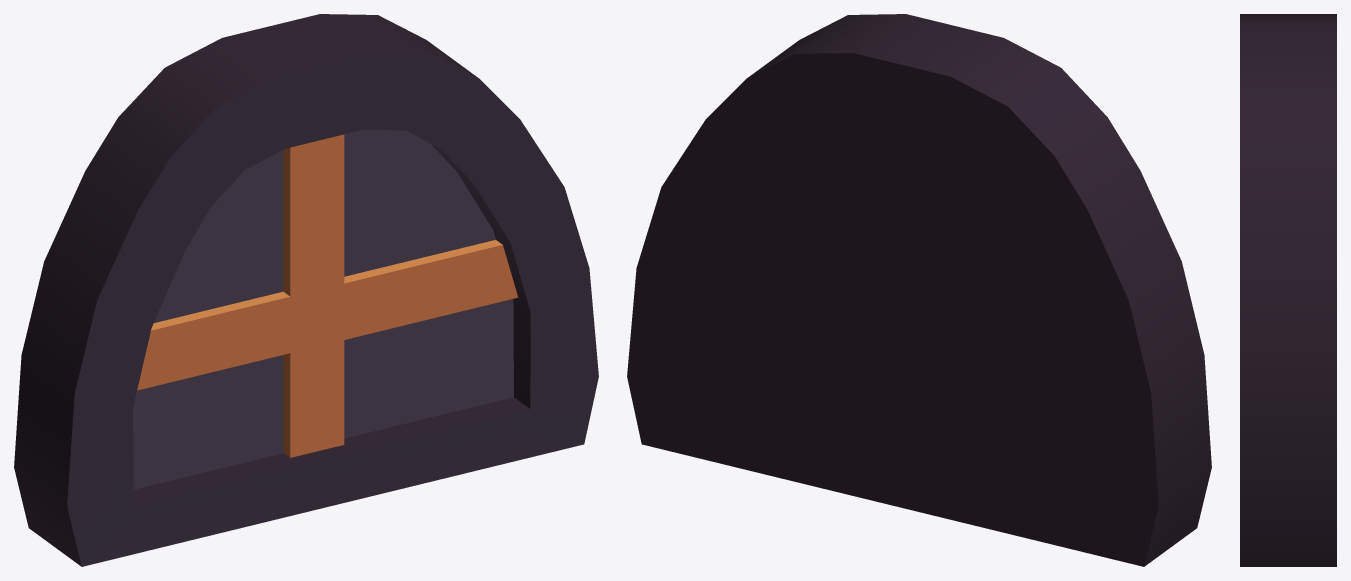
Rendered from Window03_Black_Wood.glb.
The picture shows the model from 3 angles, left to right: view 1: azimuth 30°, elevation 25°; view 2: azimuth 150°, elevation 25°; view 3: azimuth 270°, elevation 25°; orthographic projection. The views are drawn at different scales.
Visible parts, largest first — view 1: Window03_Black_Wood; view 2: Window03_Black_Wood; view 3: Window03_Black_Wood.
Part boxes in pixels (x1,y1,x2,y2): Window03_Black_Wood: (14, 14, 598, 566); Window03_Black_Wood: (627, 14, 1211, 566); Window03_Black_Wood: (1240, 14, 1336, 566).
Bounding box in the file's own units: 0.9047 × 0.7203 × 0.1565.
Materials: 1 (1 with a texture image).
